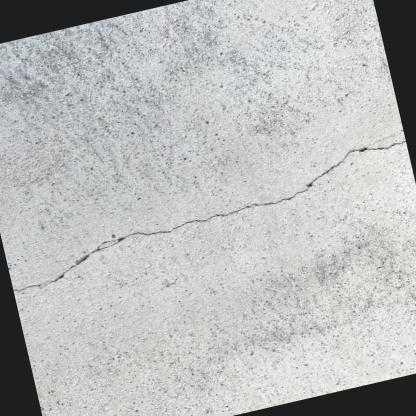crack: (13, 140, 406, 291)
